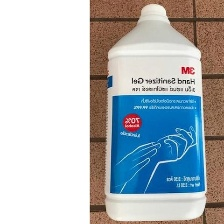cleaning_solution: (102, 2, 210, 224)
